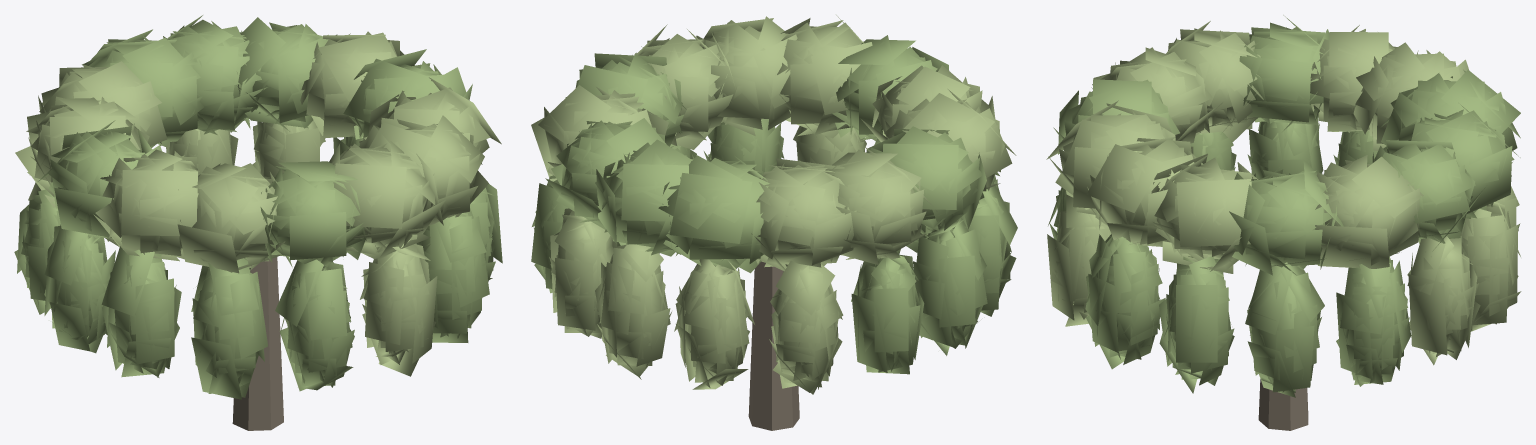
The model's file is RiverWillow.glb.
3 views of the same model, side by side, from view 1: azimuth 30°, elevation 25°; view 2: azimuth 150°, elevation 25°; view 3: azimuth 270°, elevation 25° (orthographic).
Parts seen in each view (by area): view 1: Willow crown.011, Willow crown.008, Willow drape.009, Willow crown.010, Willow crown.009, Willow drape.008, Willow drape.010, Willow drape.011, Willow drape.007, Willow crown.002, Willow drape.012, Willow crown.007 (+13 smaller); view 2: Willow crown.004, Willow crown.005, Willow crown.006, Willow drape.004, Willow drape.003, Willow drape.005, Willow crown.012, Willow drape.007, Willow crown.003, Willow drape.006, Willow crown.011, Willow crown.007 (+13 smaller); view 3: Willow crown.001, Willow crown.013, Willow crown, Willow drape.012, Willow drape, Willow drape.001, Willow drape.013, Willow crown.012, Willow drape.002, Willow crown.007, Willow crown.002, Willow crown.008 (+13 smaller).
Boxes of the visible parts, x1,y1,x2,y2 form: Willow crown.011: (329, 141, 445, 259); Willow crown.008: (93, 149, 200, 261); Willow drape.009: (191, 257, 267, 399); Willow crown.010: (260, 161, 370, 267); Willow crown.009: (177, 163, 285, 273); Willow drape.008: (101, 241, 181, 377); Willow drape.010: (275, 259, 354, 391); Willow drape.011: (360, 234, 437, 376); Willow drape.007: (44, 224, 115, 353); Willow crown.002: (237, 17, 328, 131); Willow drape.012: (416, 208, 489, 342); Willow crown.007: (38, 120, 162, 237); Willow crown.004: (658, 155, 769, 273); Willow crown.005: (751, 158, 856, 272); Willow crown.006: (825, 147, 937, 264); Willow drape.004: (674, 259, 754, 389); Willow drape.003: (595, 244, 671, 379); Willow drape.005: (769, 260, 843, 394); Willow crown.012: (696, 16, 797, 135); Willow drape.007: (913, 217, 987, 355); Willow crown.003: (595, 139, 693, 256); Willow drape.006: (851, 249, 924, 374); Willow crown.011: (777, 15, 872, 138); Willow crown.007: (866, 126, 986, 238); Willow crown.001: (1315, 155, 1423, 268); Willow crown.013: (1151, 153, 1258, 273); Willow crown: (1229, 160, 1343, 275); Willow drape.012: (1085, 234, 1165, 369); Willow drape: (1245, 262, 1324, 397); Willow drape.001: (1336, 257, 1411, 386); Willow drape.013: (1159, 256, 1234, 393); Willow crown.012: (1086, 136, 1202, 246); Willow drape.002: (1407, 232, 1480, 365); Willow crown.007: (1239, 15, 1329, 131); Willow crown.002: (1372, 140, 1485, 251); Willow crown.008: (1165, 21, 1263, 141).
Bounding box in the file's own units: 7.42 × 5.43 × 7.28.
